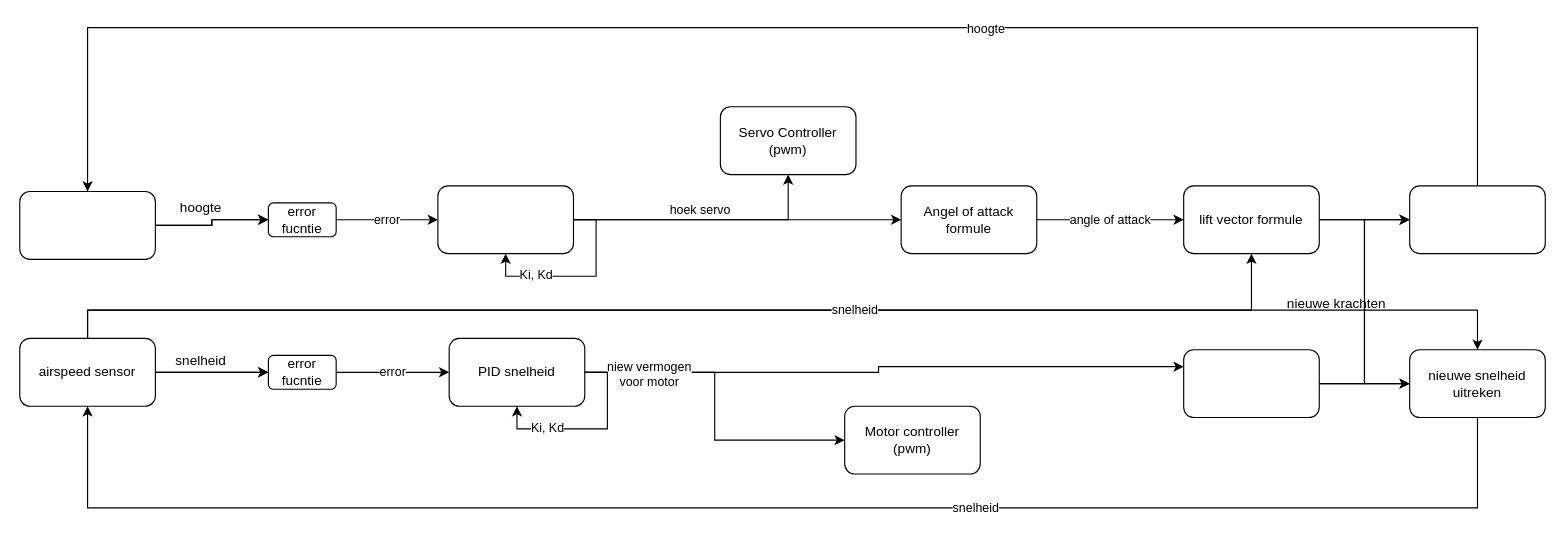
Some shapes in this 1565 by 537 pixel diagram are drawn without their labels. The shapes that lost their labels are listed below. From the top down, each one's centre as x and y in pixels, then its label:
(87,224): Lidar sensor
(505,219): PID hoogte
(1477,219): nieuwe hoogte uitreken
(1251,383): voorstuwings vectur formule
